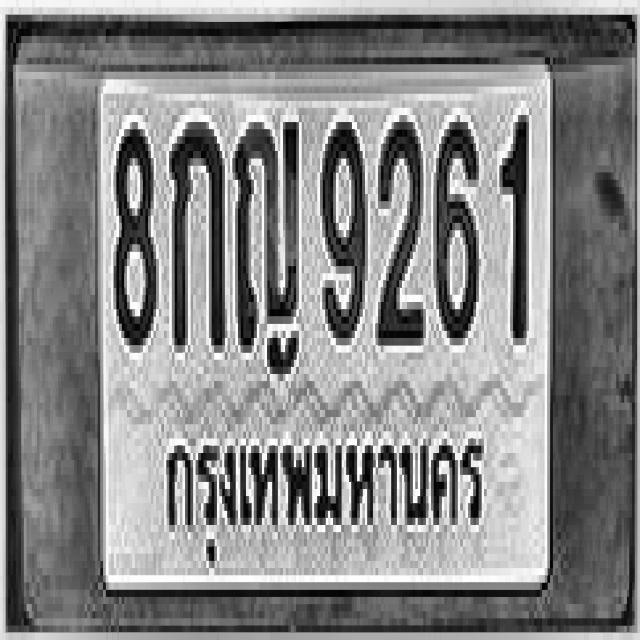license-plate: (12, 30, 634, 616)
